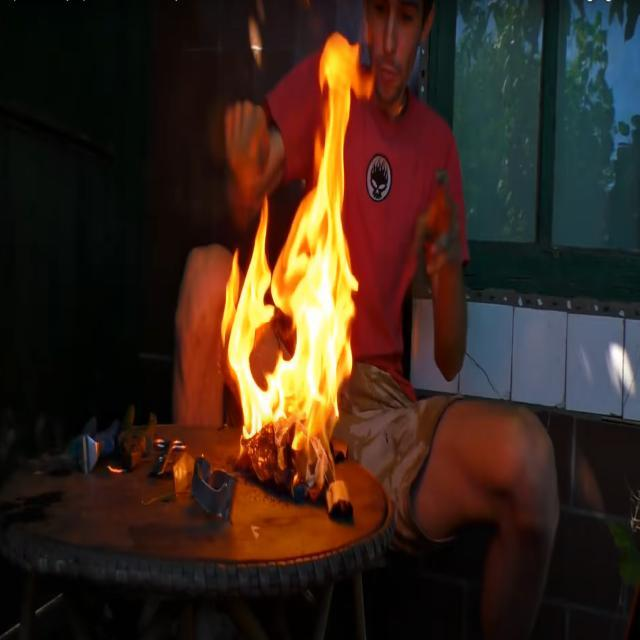Fire: (216, 32, 364, 487)
